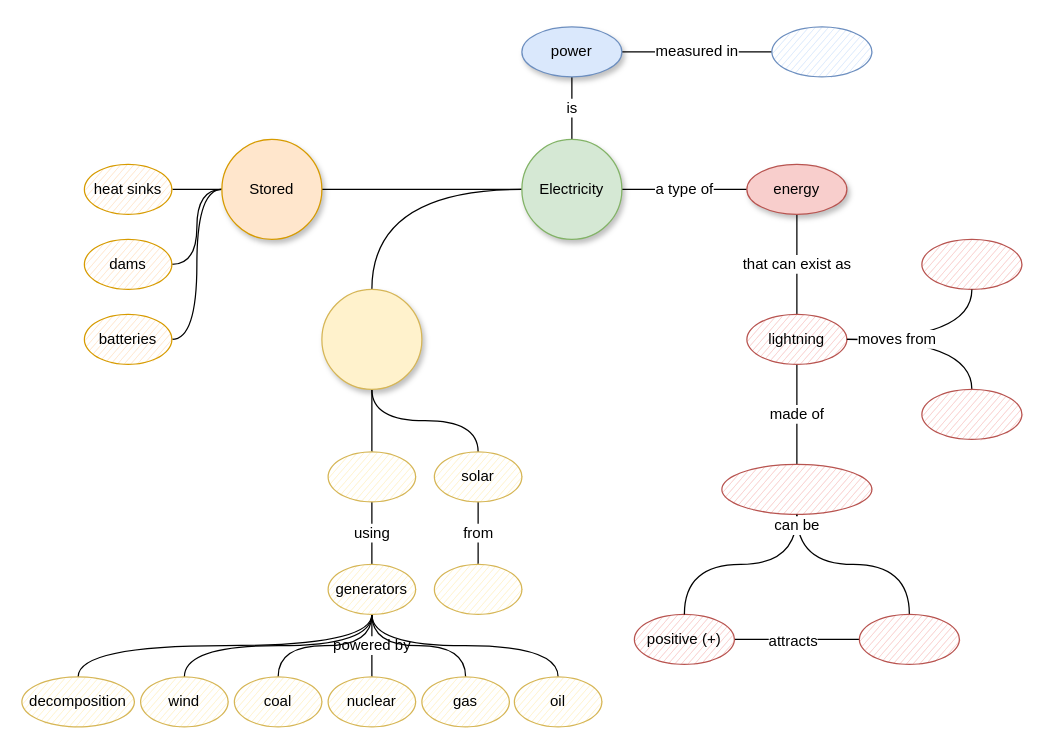
Some shapes in this 1044 by 749 pixel diagram are drawn without their labels. Each missing label, with the centre of its shape:
cloud to cloud: [971,263]
cloud to ground: [971,413]
electrically charged particles: [796,488]
kilowatts: [821,51]
mechanical: [371,476]
negative (-): [908,638]
sources: [372,340]
sun: [477,588]
